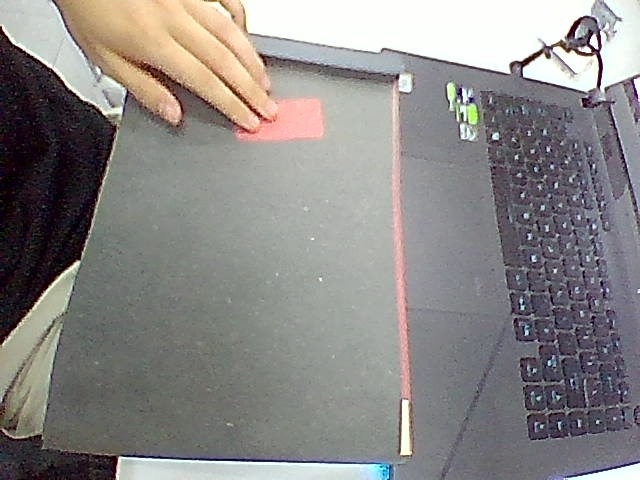card: (236, 98, 324, 141)
